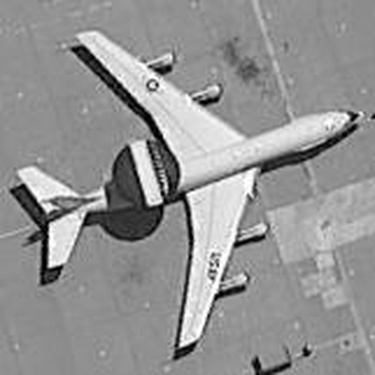airplane: (7, 17, 365, 364)
